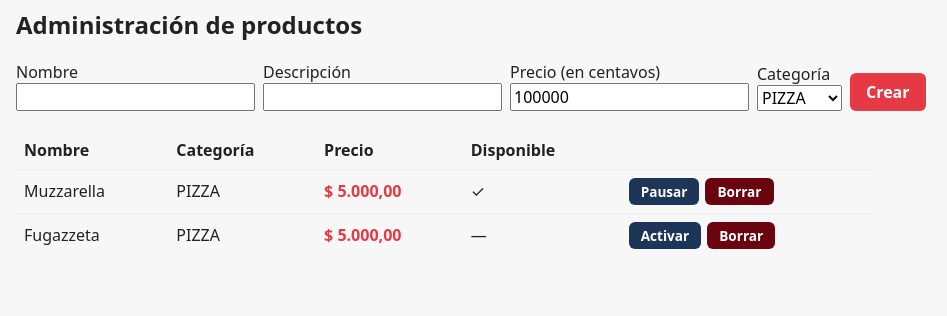
it: <AdminProductsPage> › muestra error si crear falla
Expected: the text "Muzzarella" is shown, left=16, top=169, right=168, bottom=213
Step 1. Type "X" into the field labelled "Nombre" → (136, 97), box left=16, top=83, right=255, bottom=111
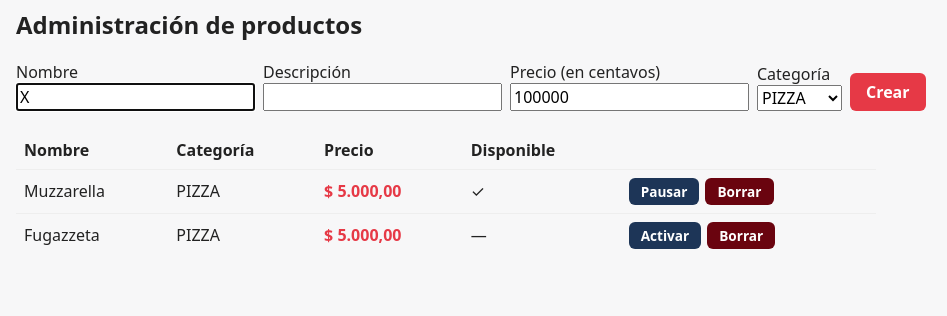
Step 2. Click the button "Crear" → (888, 92), box left=850, top=73, right=926, bottom=111
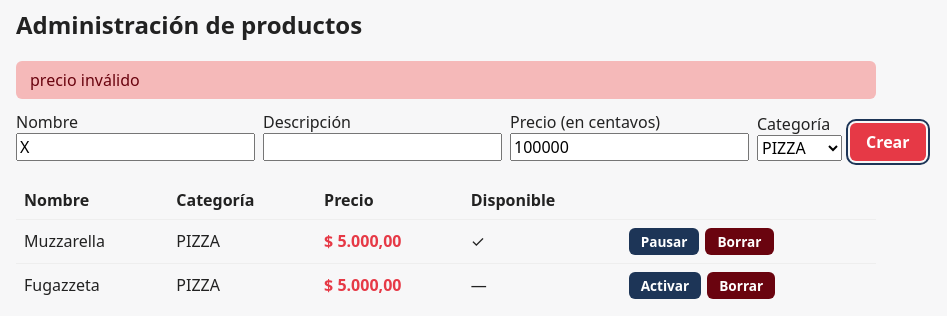
Expected: the text "precio inválido" is shown, left=16, top=61, right=876, bottom=99
